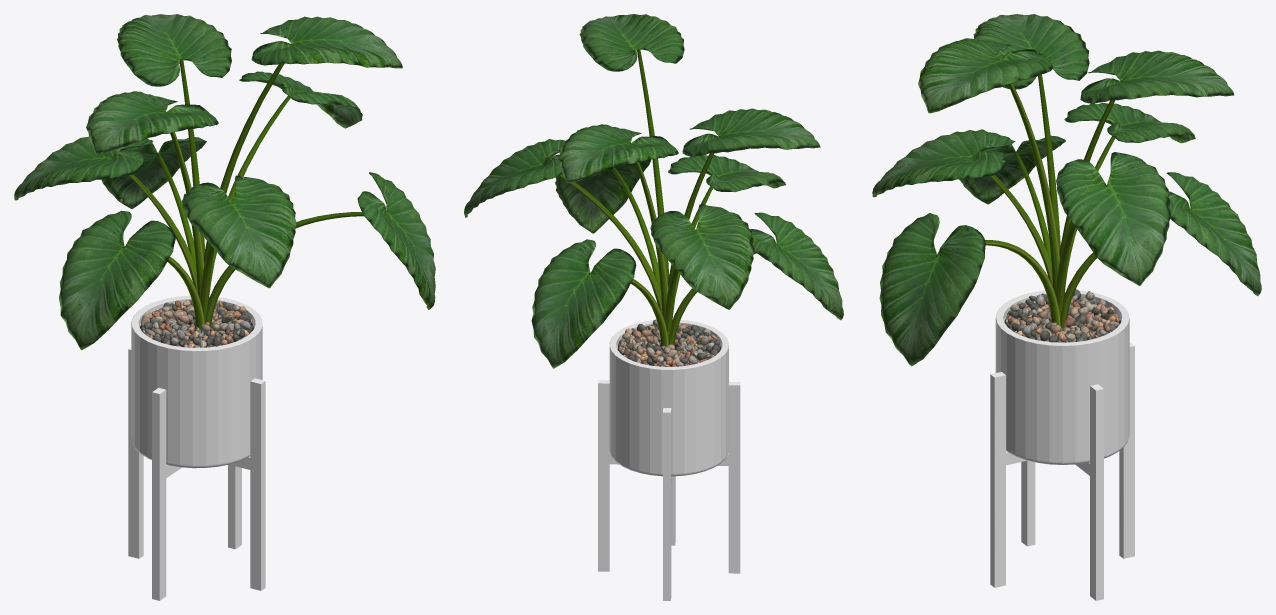
File: elephantplant.glb
3 views of the same model, side by side, from view 1: azimuth 30°, elevation 25°; view 2: azimuth 150°, elevation 25°; view 3: azimuth 270°, elevation 25° (orthographic). The views are drawn at different scales.
Visible parts, largest first — view 1: Plant.001, Pot, legs, Trunk, Pebbles; view 2: Plant.001, Pot, legs, Trunk, Pebbles; view 3: Plant.001, Pot, legs, Trunk, Pebbles.
Boxes of the visible parts, <box> form: Plant.001: <box>14,14,435,350</box>; Pot: <box>131,295,262,468</box>; legs: <box>128,348,265,600</box>; Trunk: <box>110,44,387,332</box>; Pebbles: <box>141,300,253,347</box>; Plant.001: <box>464,14,843,368</box>; Pot: <box>609,320,728,476</box>; legs: <box>598,380,740,600</box>; Trunk: <box>542,48,778,346</box>; Pebbles: <box>618,319,720,366</box>; Plant.001: <box>872,14,1261,366</box>; Pot: <box>995,289,1129,464</box>; legs: <box>990,342,1134,600</box>; Trunk: <box>936,59,1192,328</box>; Pebbles: <box>1005,289,1119,342</box>.
Bounding box in the file's own units: 0.9282 × 1.41 × 0.8947.
8 materials, 6 textured.
